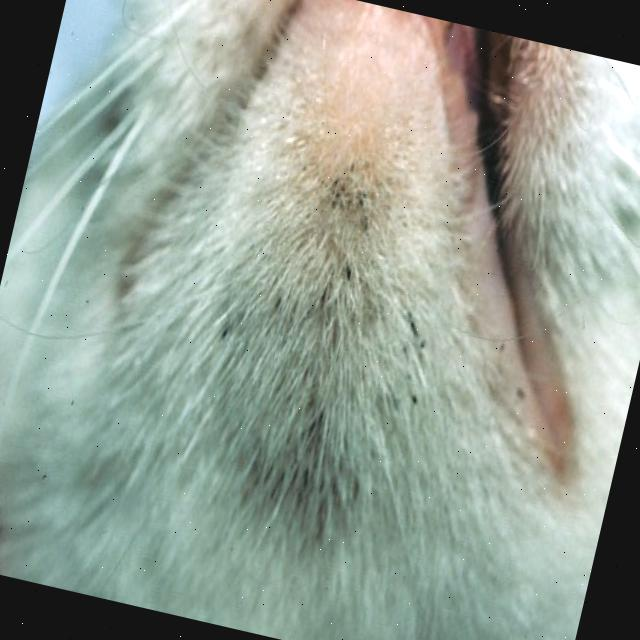cat-acne: (257, 394, 345, 514), (302, 248, 357, 326), (316, 172, 376, 229)
